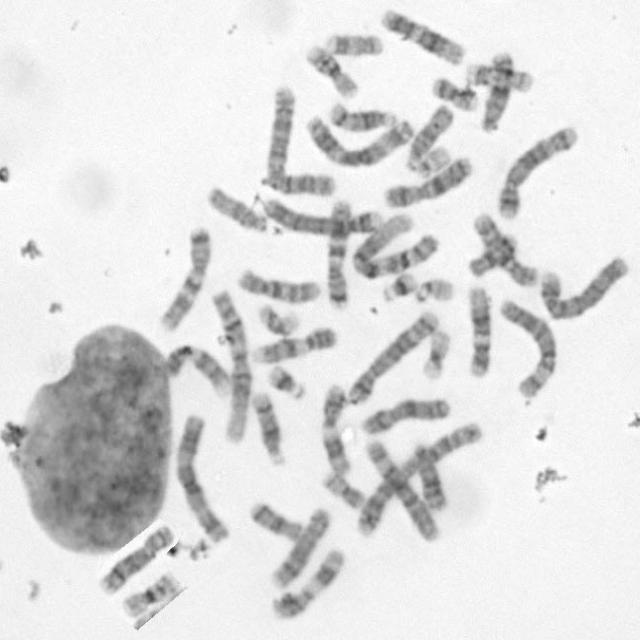A1: (207, 287, 253, 446), (348, 210, 440, 279)
A2: (352, 416, 485, 539), (260, 82, 339, 198)
A3: (172, 409, 230, 544), (303, 113, 417, 170)
B4: (534, 250, 632, 322), (258, 193, 386, 237)
B5: (344, 304, 441, 407), (493, 119, 581, 221)
C10: (468, 207, 541, 289), (235, 265, 321, 305)
C11: (269, 543, 348, 621), (317, 378, 354, 477)
C12: (376, 4, 467, 67), (462, 283, 495, 378)
C6: (356, 433, 444, 544), (495, 294, 559, 401)
C7: (154, 222, 213, 334), (323, 194, 353, 310)
C8: (94, 520, 176, 596), (265, 501, 332, 592)
C9: (248, 322, 340, 367), (161, 339, 233, 395)
D13: (475, 46, 514, 134), (408, 436, 448, 512)
D14: (248, 386, 288, 466), (325, 97, 400, 133)
D15: (403, 102, 455, 174), (203, 182, 272, 234)
E16: (300, 39, 360, 100), (118, 568, 179, 621)
E17: (462, 57, 536, 94), (322, 29, 385, 57)
E18: (464, 229, 520, 280), (246, 496, 306, 542)
F19: (418, 324, 452, 381), (256, 300, 305, 334)
F20: (318, 465, 367, 511), (428, 72, 480, 112)
G21: (263, 359, 308, 401), (378, 267, 419, 304)
G22: (413, 142, 452, 180), (411, 273, 456, 304)
X: (381, 151, 476, 210), (358, 392, 453, 436)
